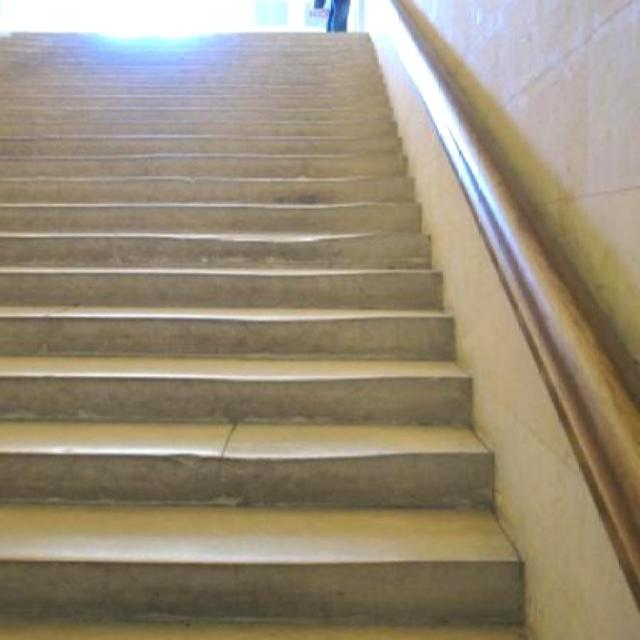stair: (0, 31, 528, 640)
